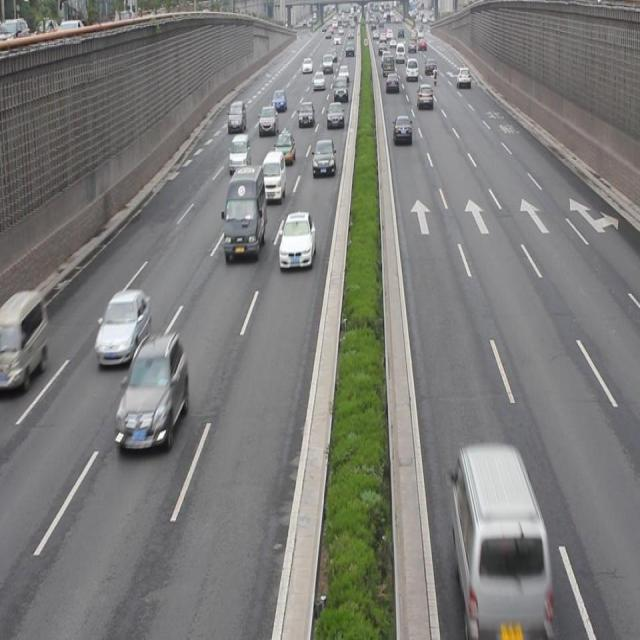car: (116, 332, 188, 449), (96, 287, 150, 367), (279, 211, 315, 271), (312, 138, 335, 178), (258, 105, 279, 137), (274, 130, 294, 163), (228, 100, 248, 132), (392, 113, 410, 144), (326, 100, 344, 130), (298, 99, 314, 127)
truck: (448, 441, 552, 633), (1, 289, 47, 390), (222, 163, 265, 260), (260, 151, 285, 201), (228, 132, 251, 176)
